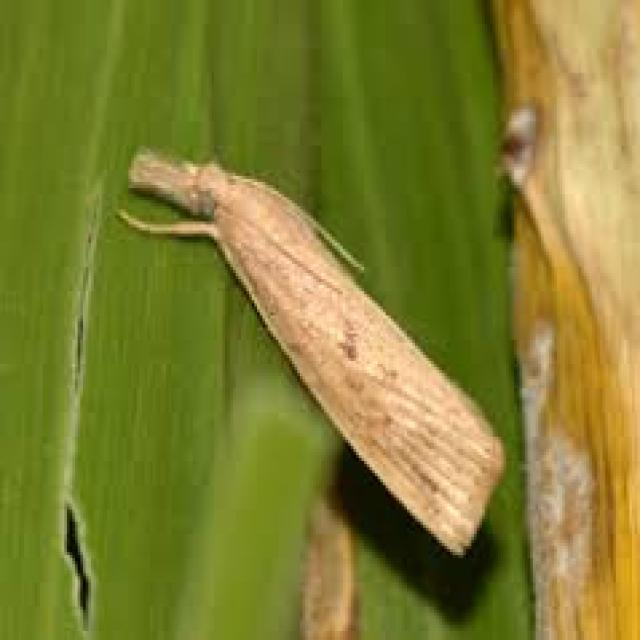yellow-stem-borer: (86, 122, 528, 560)
